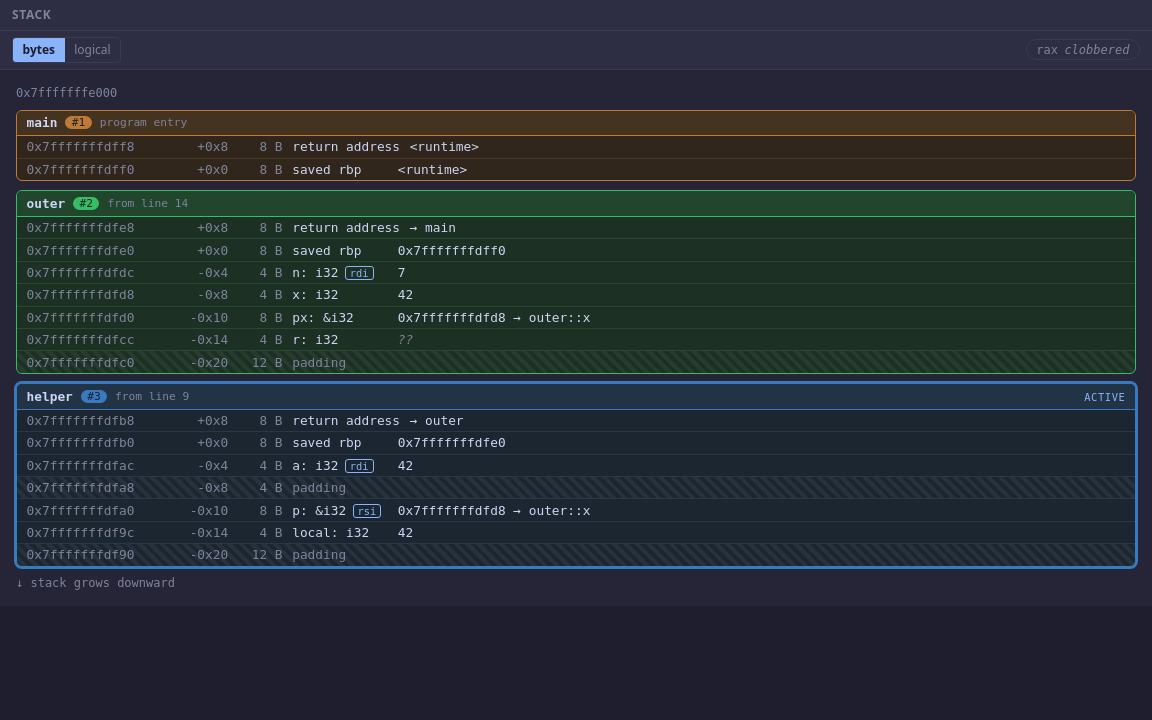
Test case: StackPane detail toggle › collapses frames to name = value chips in logical mode
This screenshot has width=1152, height=720.
Click the button "logical": x=92, y=50 [65,38,120,62]
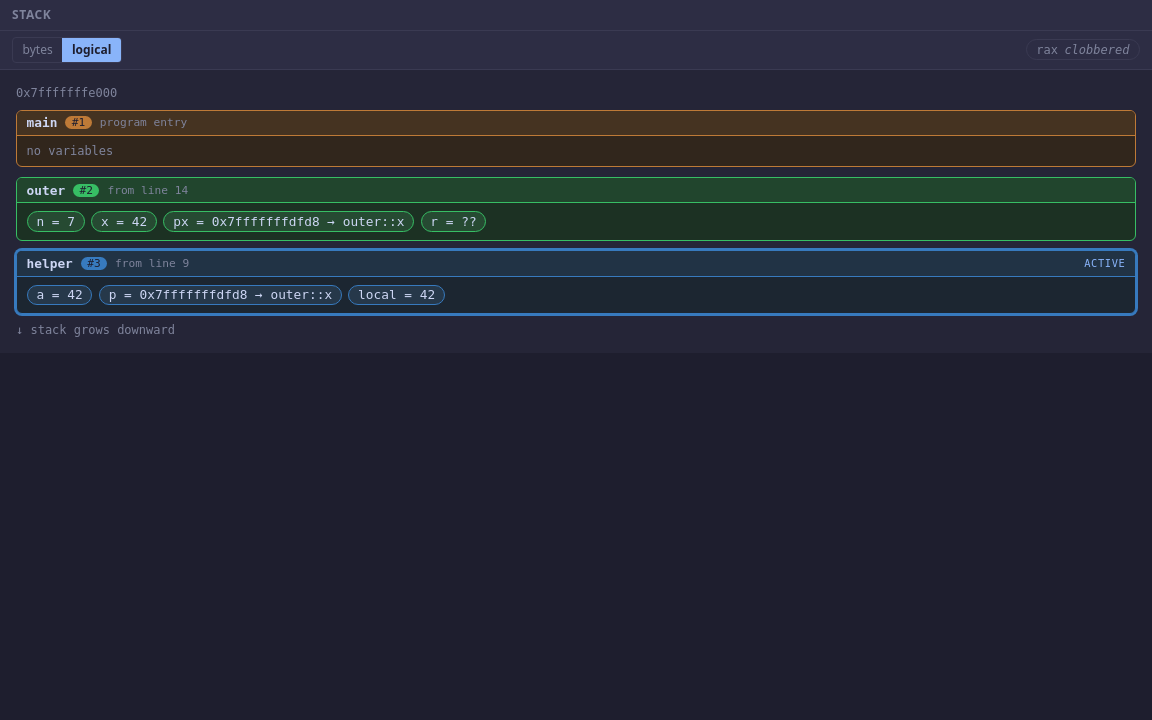
Expected: the text "x = 42" is shown, [91,211,157,232]
Expected: the text "r = ??" is shown, [420,211,486,232]
Expected: the text "-0x4" is gone
